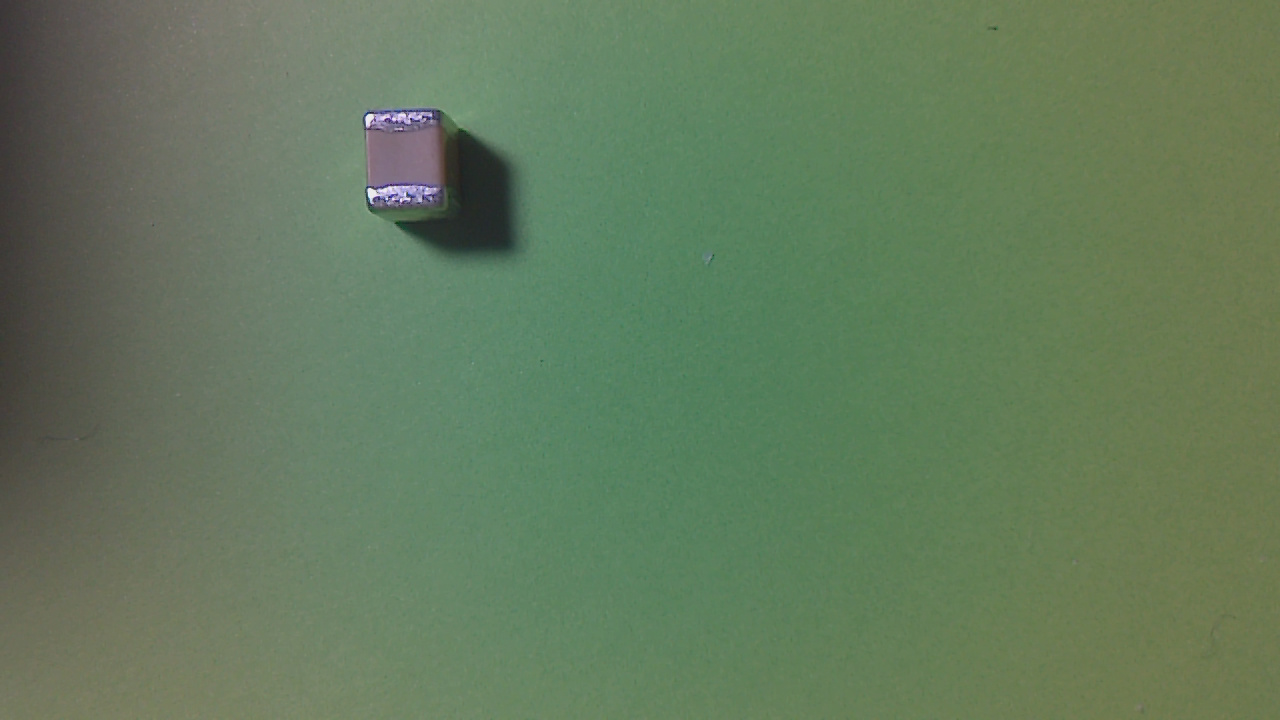Condensator: (366, 109, 455, 220)
